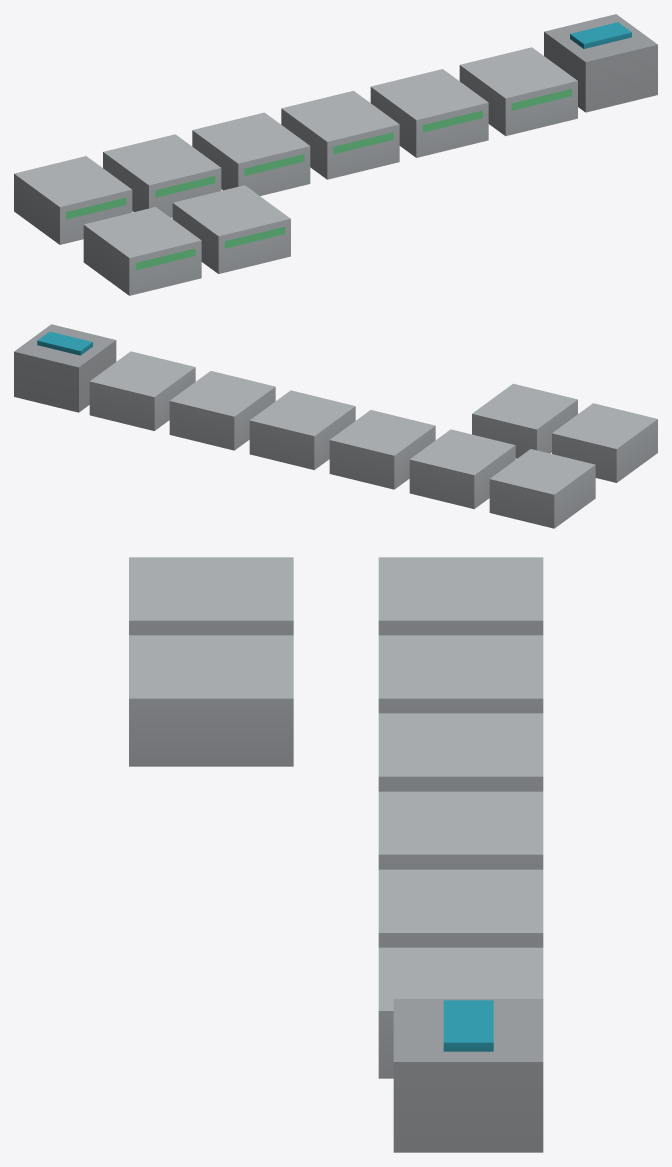
File: plant_battery_l2.fbx
3 renders of one model, top to bottom at view 1: azimuth 30°, elevation 25°; view 2: azimuth 150°, elevation 25°; view 3: azimuth 270°, elevation 25°, orthographic. The views are drawn at different scales.
Parts seen in each view (by area): view 1: plant_battery_l2; view 2: plant_battery_l2; view 3: plant_battery_l2.
Boxes of the visible parts, left/top/right/bottom form: plant_battery_l2: left=14, top=14, right=657, bottom=295; plant_battery_l2: left=14, top=324, right=657, bottom=528; plant_battery_l2: left=129, top=557, right=543, bottom=1152.
Size of the model in its own units: 50 by 4.4 by 16.62.
